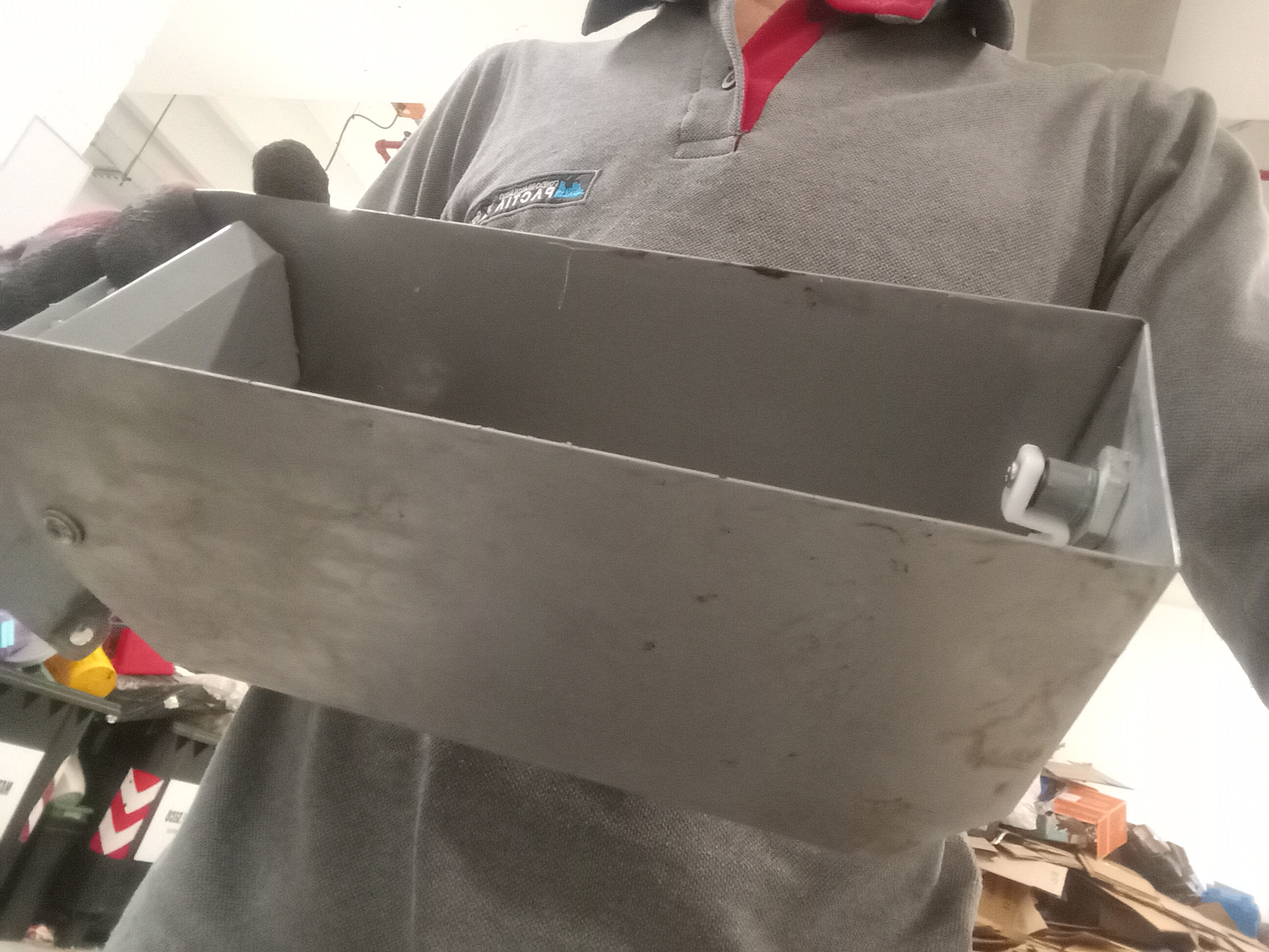Metal: (3, 191, 1183, 862)
